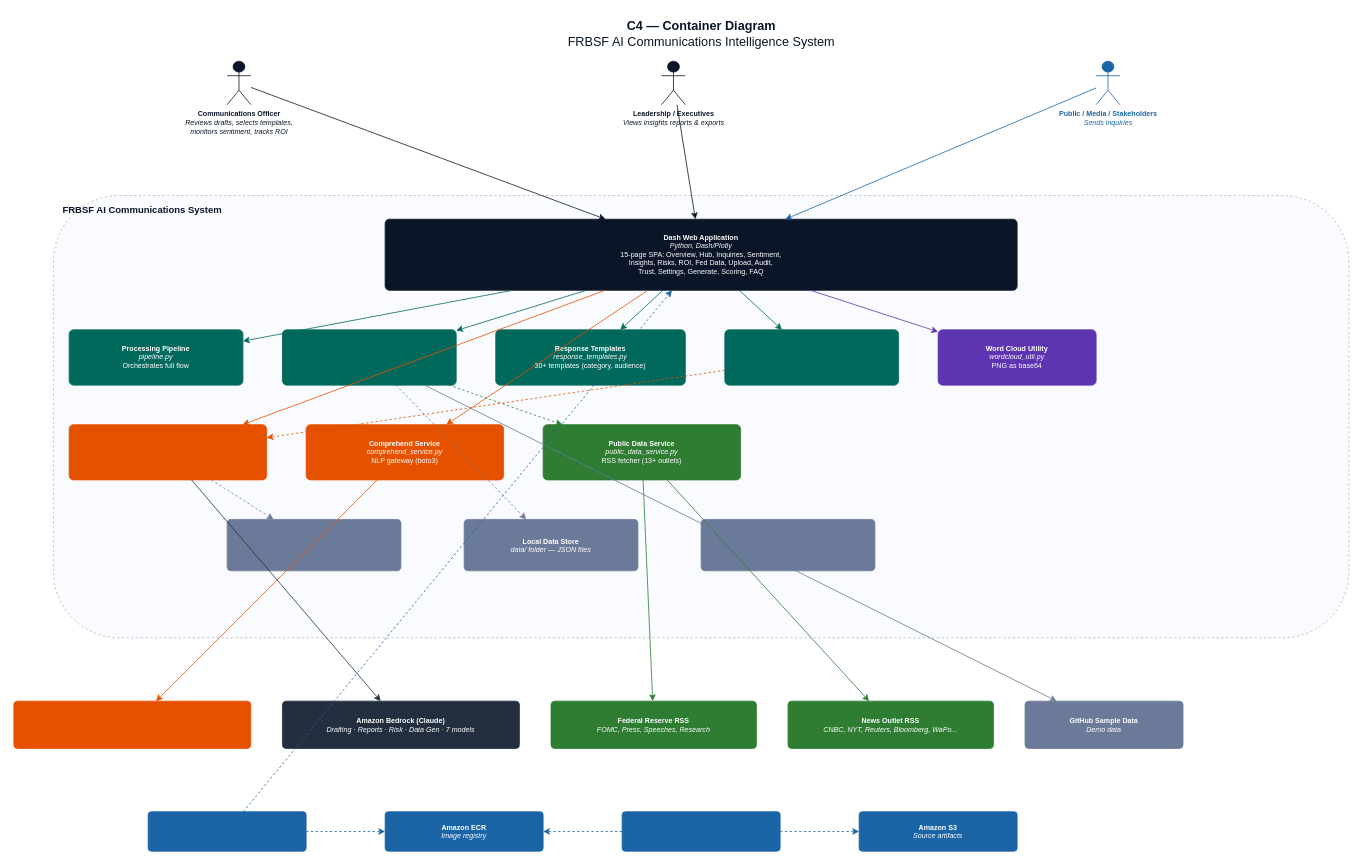
The diagram is 1363 pixels wide and 865 high, and some of its shapes have lost their labels. The shapes that lost their labels are listed below. From the top down, each one's centre as x and y in pixels, then its label:
point 369,357: Data Loader data_loader.py Merges all data sources
point 811,357: Data Gen Service datagen_service.py Synthetic data via Bedrock
point 167,452: Bedrock Service bedrock_service.py LLM gateway (boto3)
point 313,545: Audit Log audit_log.py Tracks all AI actions
point 787,545: Config config.py — AWS region, model, env
point 132,724: Amazon Comprehend Sentiment · Classification · Key Phrases · Entities
point 226,831: AWS App Runner Container hosting
point 700,831: AWS CodeBuild CI/CD pipeline
